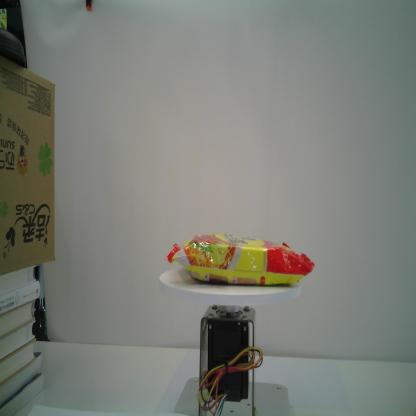Instant Noodles: (166, 234, 314, 285)
